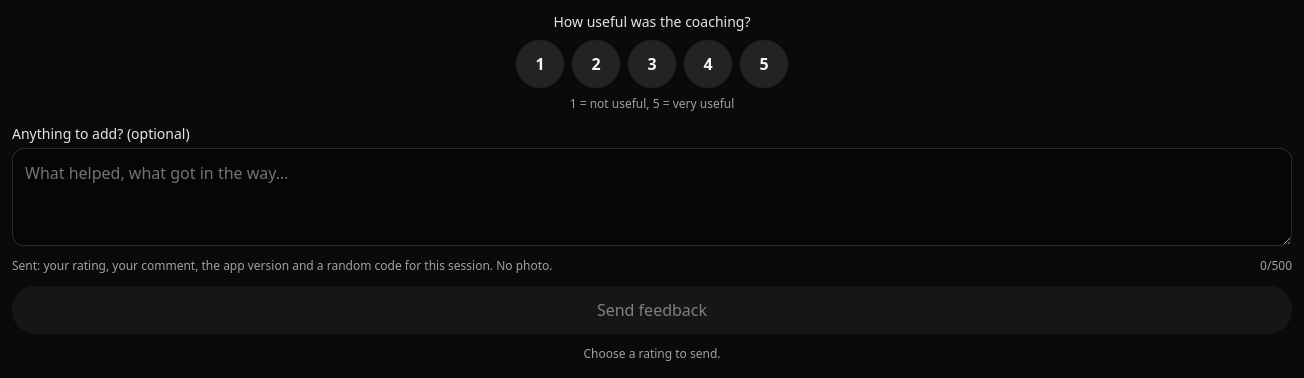
Test: FeedbackForm › says when the save went to temporary demo storage
The width and height of the screenshot is (1304, 378).
Step 1. Click the radio button named "3 out of 5" → (652, 64), box [628,40,676,88]
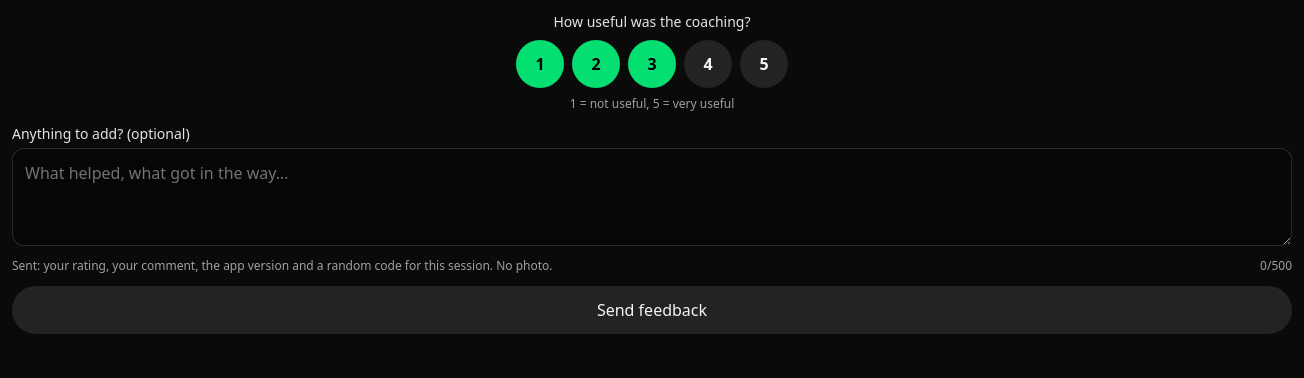
Step 2. Click the button "Send feedback" → (652, 310), box [12,286,1292,334]
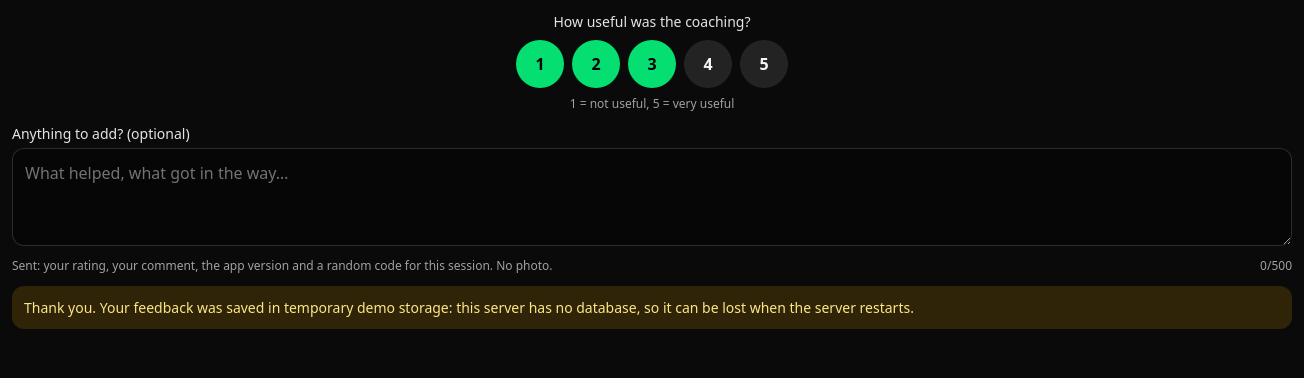
Expected: the text "Thank you. Your feedback was saved in temporary demo storage: this server has no database, so it can be lost when the se" is shown, [24,298,914,317]
